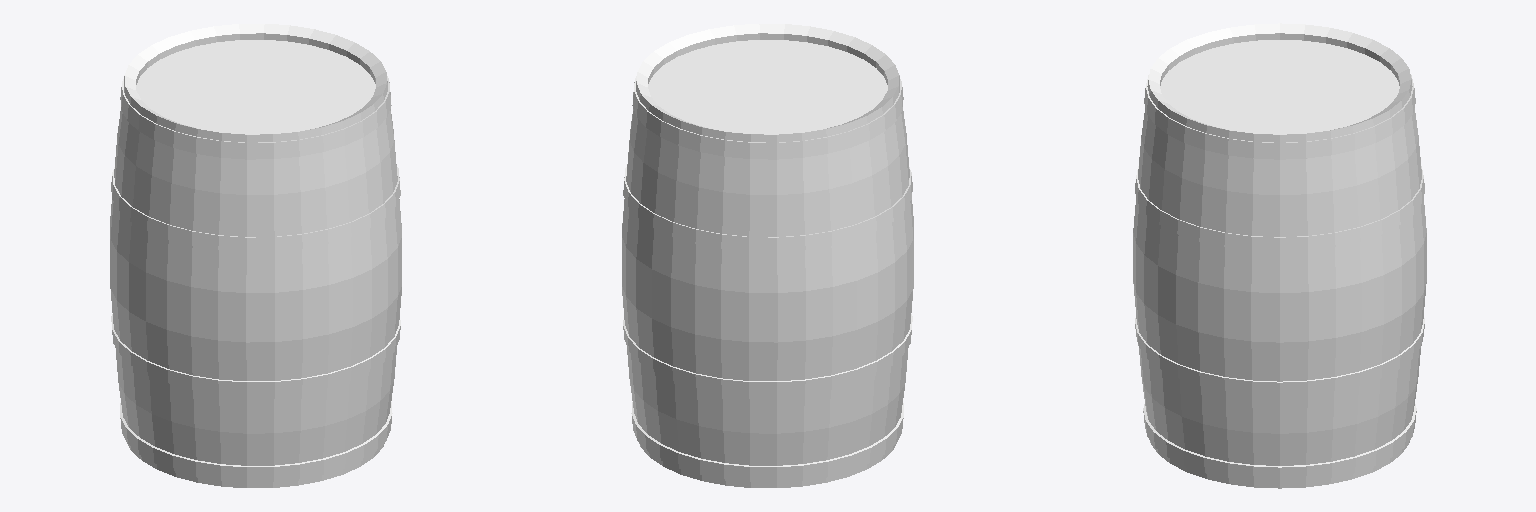
File: barrel_01.obj
3 renders of one model, left to right at view 1: azimuth 30°, elevation 25°; view 2: azimuth 150°, elevation 25°; view 3: azimuth 270°, elevation 25°, orthographic.
Visible parts, largest first — view 1: meshes[0]; view 2: meshes[0]; view 3: meshes[0].
Boxes of the visible parts, box(x1,y1,x2,y2) form: meshes[0]: box(110, 24, 401, 487); meshes[0]: box(622, 24, 913, 487); meshes[0]: box(1133, 23, 1426, 488).
Bounding box in the file's own units: 0.7128 × 0.9479 × 0.7128.